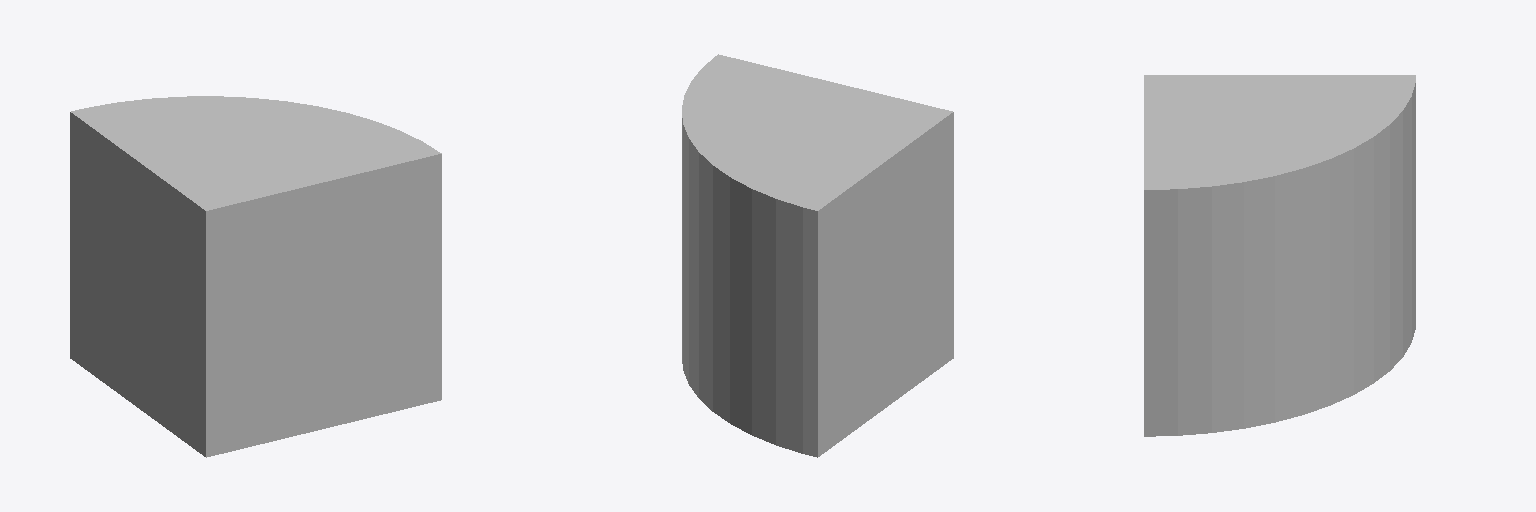
File: ConvexCurve_4m_Block.obj
The picture shows the model from 3 angles: view 1: azimuth 30°, elevation 25°; view 2: azimuth 150°, elevation 25°; view 3: azimuth 270°, elevation 25°; orthographic projection.
Visible parts, largest first — view 1: Mesh1 Component_7_1 Model; view 2: Mesh1 Component_7_1 Model; view 3: Mesh1 Component_7_1 Model.
Boxes of the visible parts, x1,y1,x2,y2 form: Mesh1 Component_7_1 Model: [70, 96, 441, 457]; Mesh1 Component_7_1 Model: [682, 54, 953, 457]; Mesh1 Component_7_1 Model: [1144, 75, 1415, 436].
Bounding box in the file's own units: 4 × 4 × 3.99.